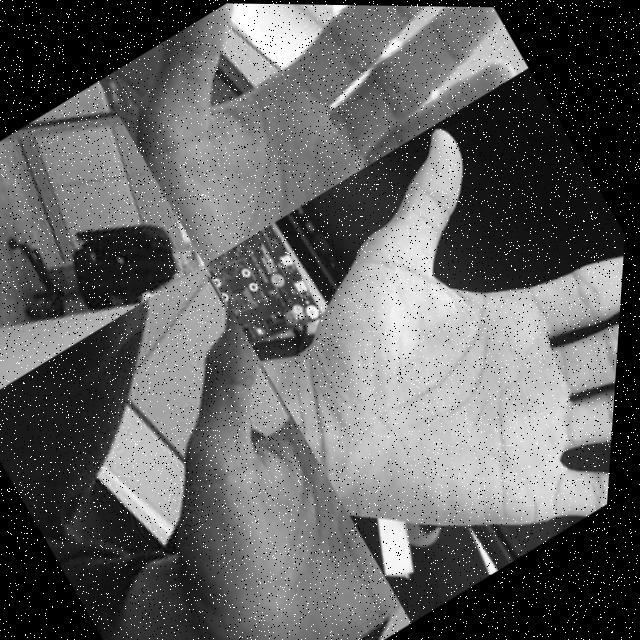no-gloves: (189, 61, 637, 624), (44, 292, 432, 640), (89, 1, 532, 267)
